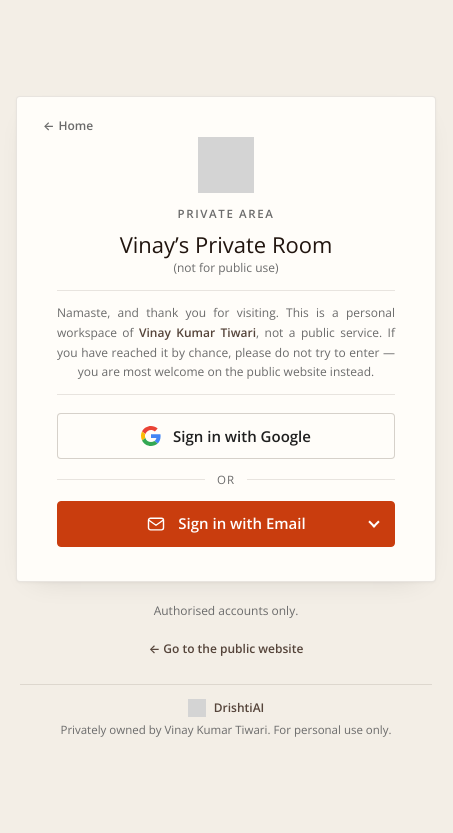
Scenario: the door is Vinay's Private Room, not for public use, with one button for Google and one for Email; the email forms stay folded until the second is pressed
The width and height of the screenshot is (453, 833).
Check: the heading reads "Vinay’s Private Room (not for public use)", box [120,230,332,276]
Check: the field labelled "Email address" is not shown
Click the button "Sign in with Email".
click(226, 524)  # box [57,500,395,546]
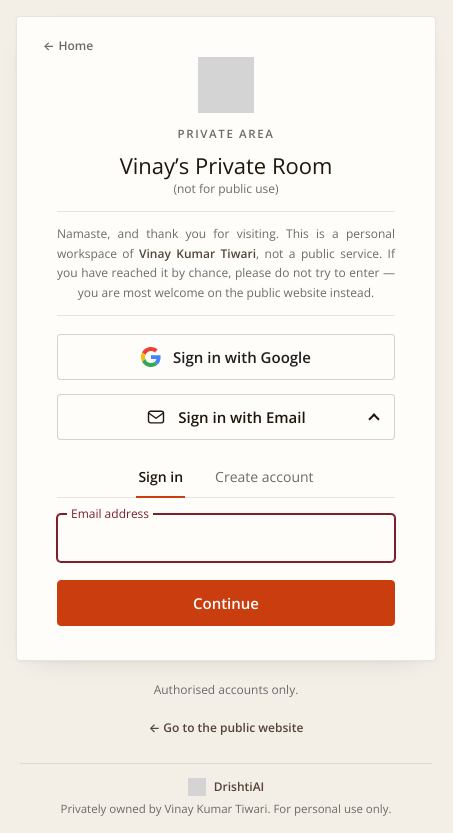
Check: the button "Sign in with Email" is expanded
Check: the field labelled "Email address" is shown, box [57,514,395,562]
Check: the button "Continue" is shown, box [57,580,395,626]
Click the button "Sign in with Email".
click(226, 417)  # box [57,394,395,440]
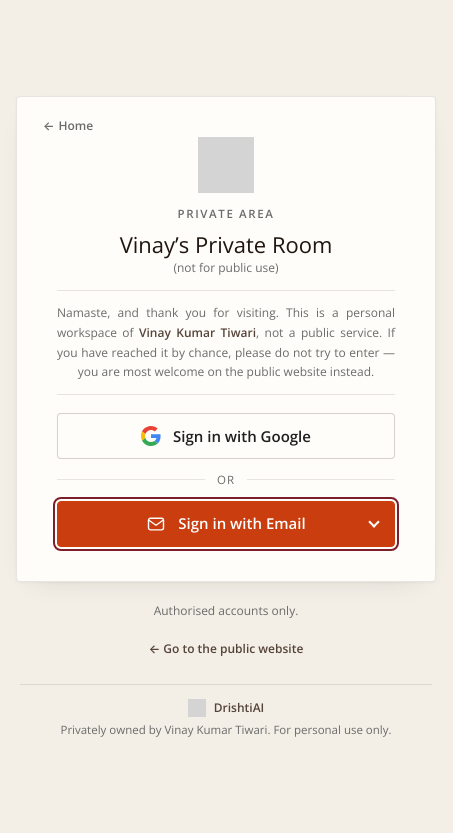
Check: the label labelled "Email address" is gone
